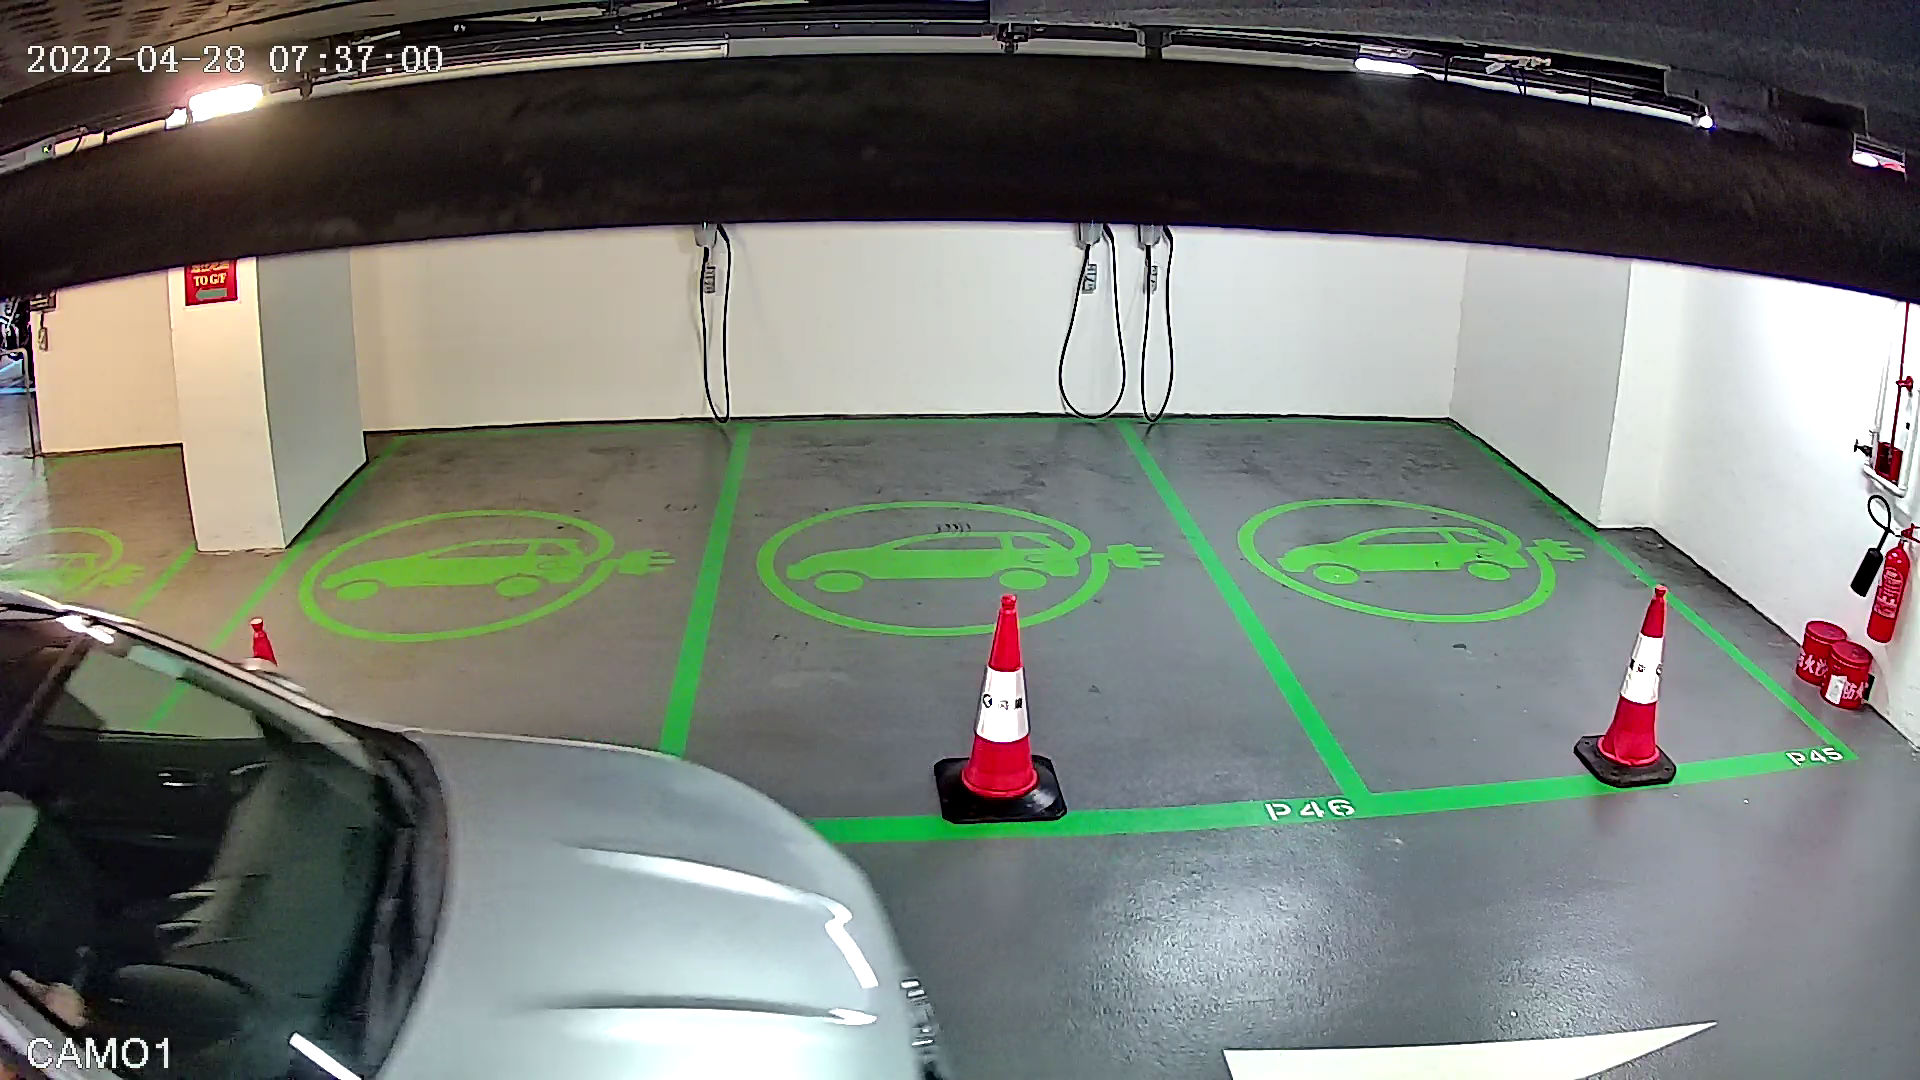space: (603, 345, 1393, 886), (1087, 345, 1891, 862), (104, 386, 760, 930)
